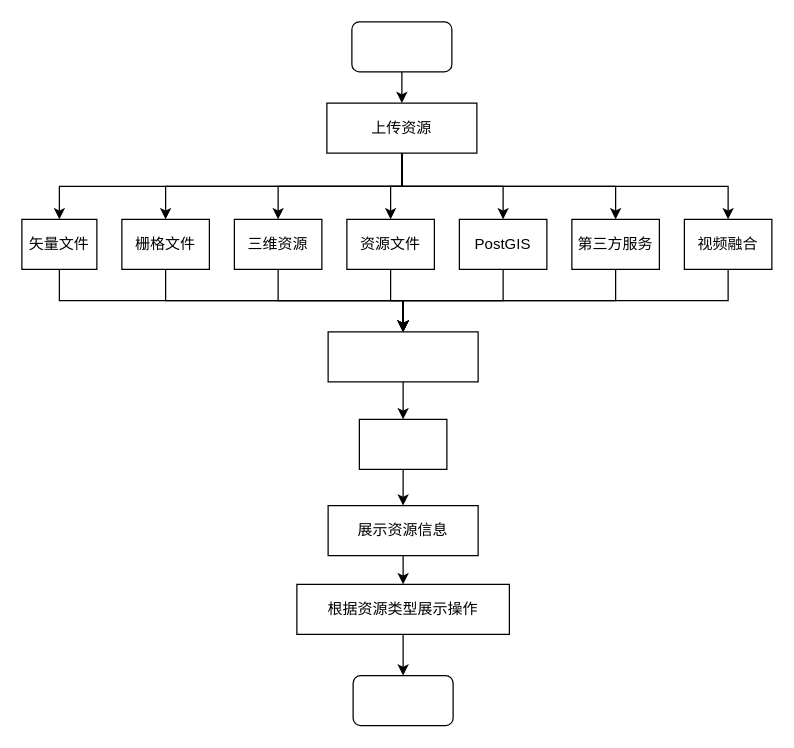
The diagram is 794 pixels wide and 748 high, and some of its shapes have lost their labels. Here are the shapes that lost their labels. From the top down, the centre of each, then its label:
point 401,46: 开始
point 402,356: 填写资源上传信息
point 402,443: 上传
point 402,700: 结束
